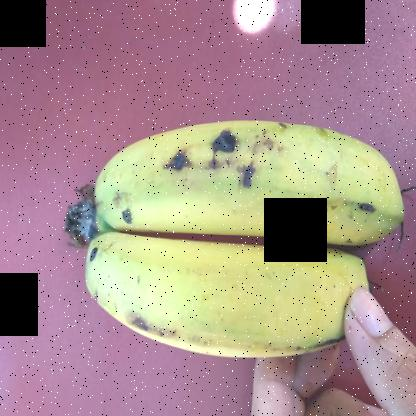ripe: (73, 94, 413, 255), (64, 231, 364, 386)
